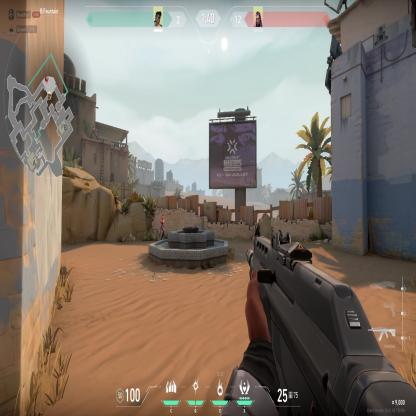enemy: (159, 212, 165, 240)
